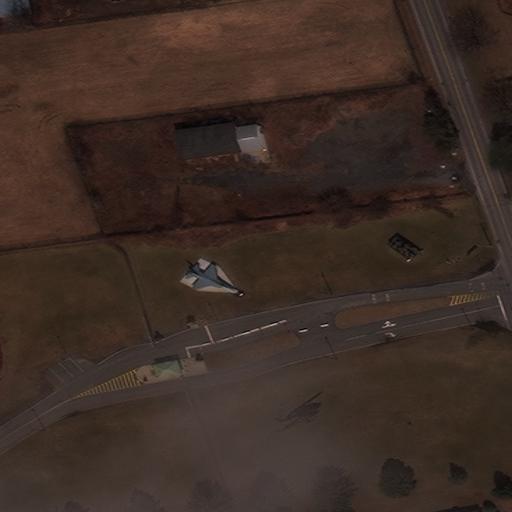Military Fighter: (188, 264, 234, 290)
